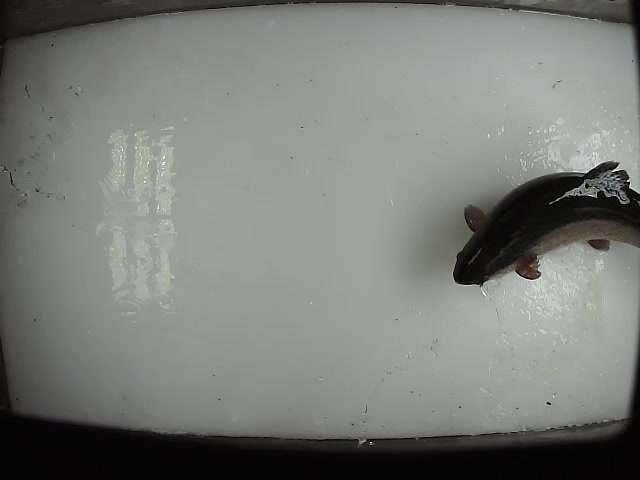fish: (444, 158, 640, 287)
